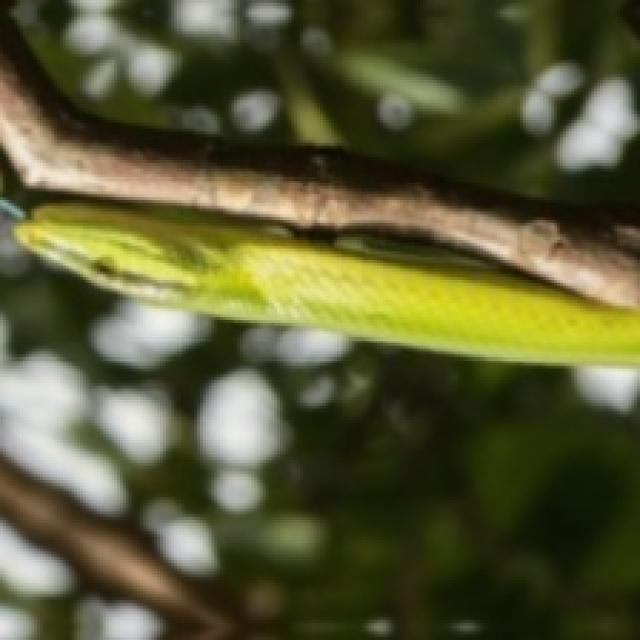red-tailed green ratsnake: (16, 204, 640, 364)
